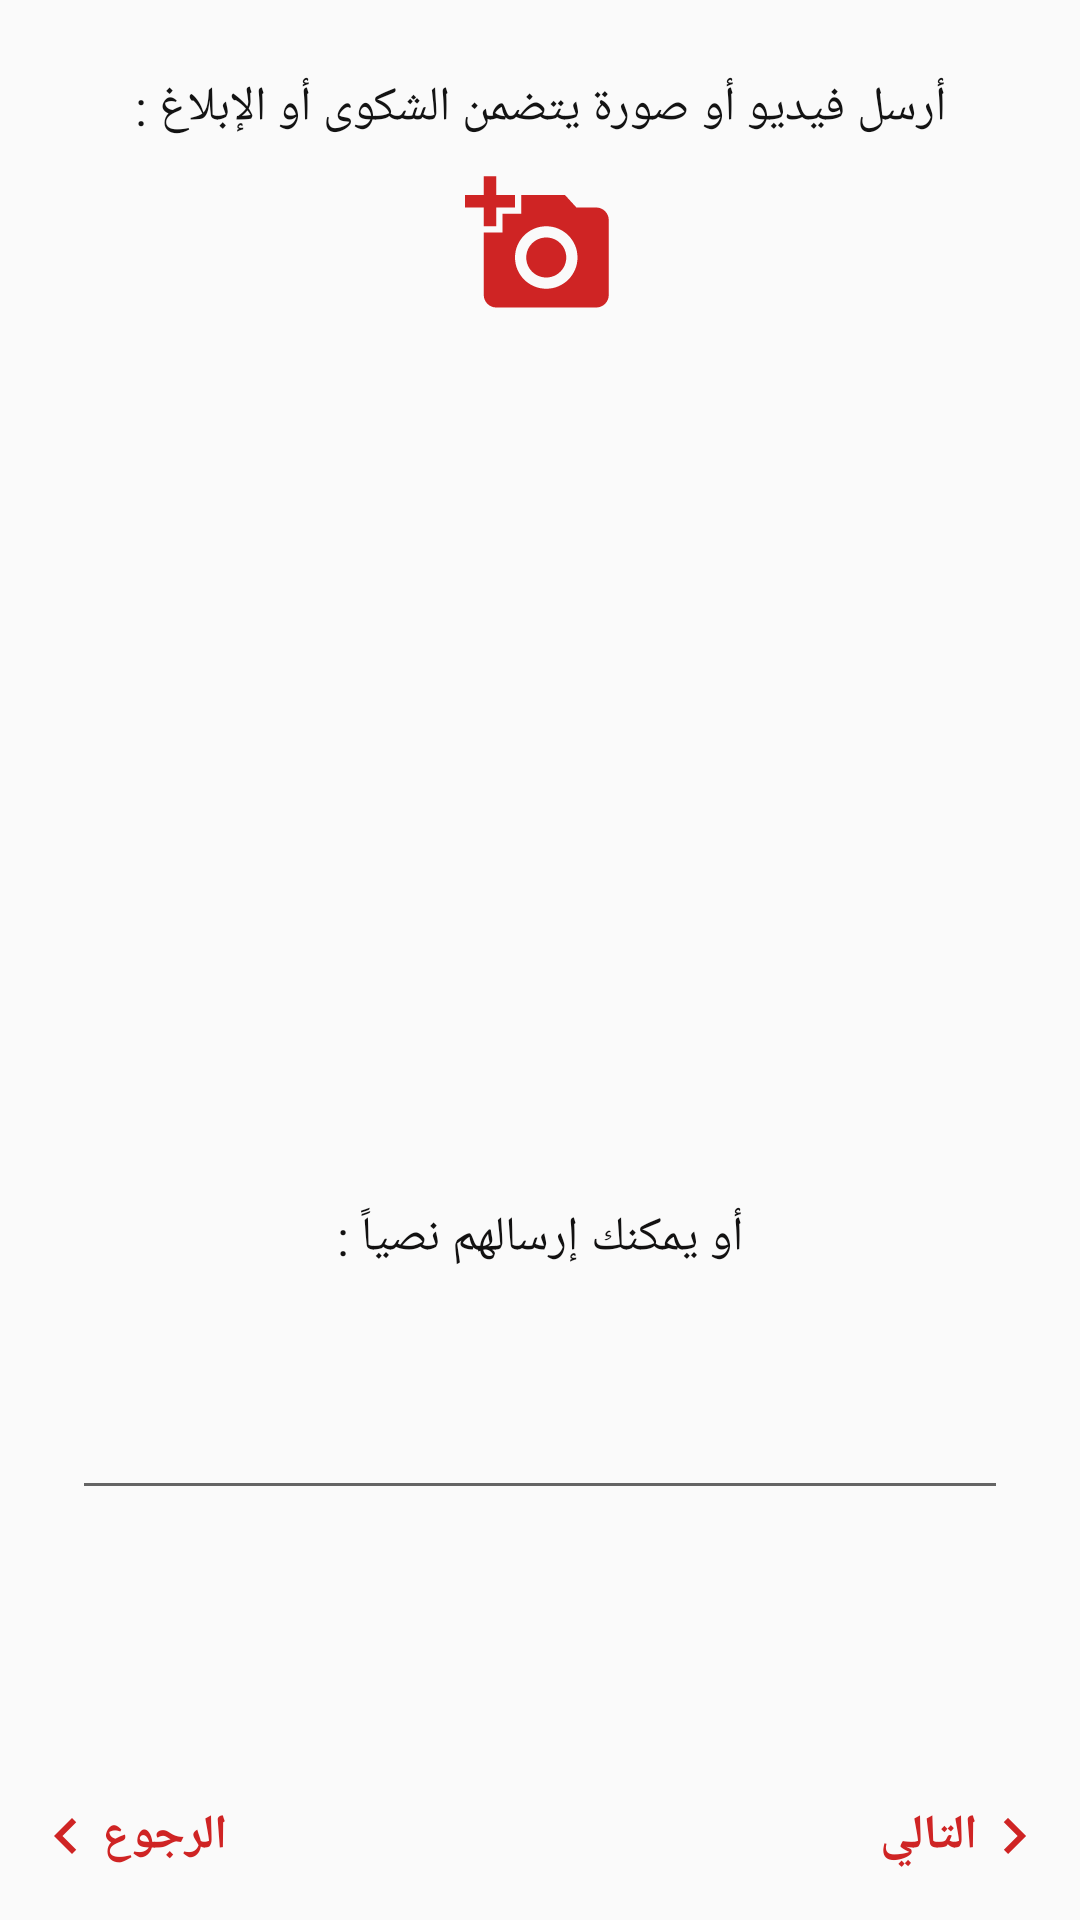

Locate icon controls on the screen. Image size 1080w x 1920h, boxes as (x1, y1, x2, y2).
camera: (465, 176, 609, 308)
left: (54, 1818, 76, 1854)
next: (1004, 1818, 1026, 1854)
